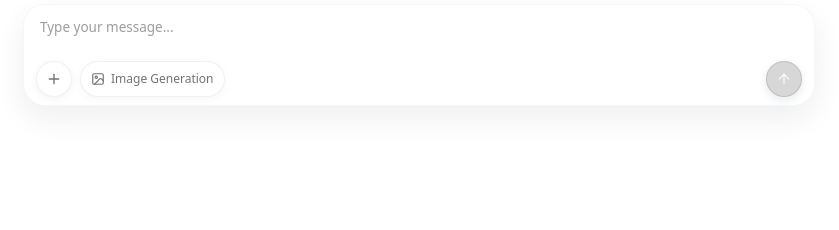
Test: ThreadComposer › opens a slash command palette and inserts the selected command
Type "/" into the text box named "Message input".
click(419, 30); type("/")  # box [24,5,814,55]
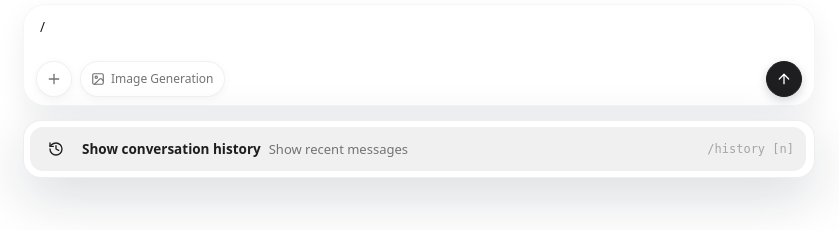
expect the list named "Slash commands" is shown: met, box [23,120,815,178]
Press Enter in the text box named "Message input", box [24,5,814,55]
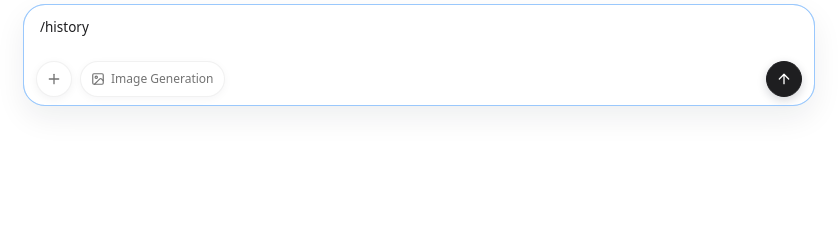
expect the text box named "Message input" holds "/history ": met, box [24,5,814,55]
